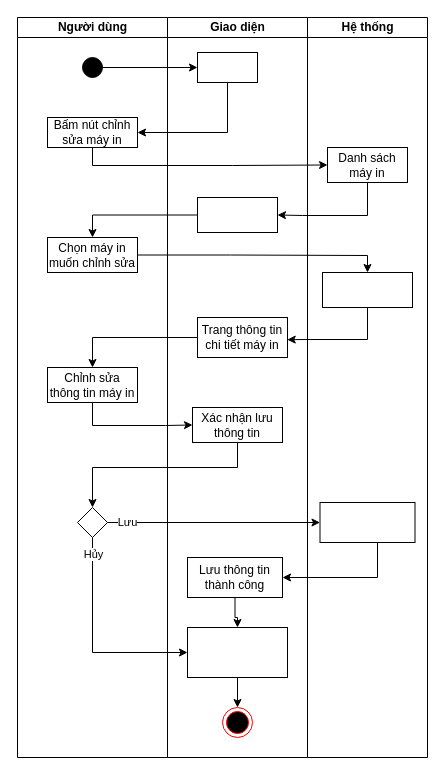
Image size: 445x775. Some labels were removed from this diagram. The centre of each missing label's shape, as x and y in pixels:
Lưu thông tin đã sửa: the point at 367,522
Quay lại trang danh sách máy in: the point at 237,652
Thông tin chi tiết máy in: the point at 367,290
Trang chủ: the point at 227,67
Trang danh sách máy in: the point at 237,214
